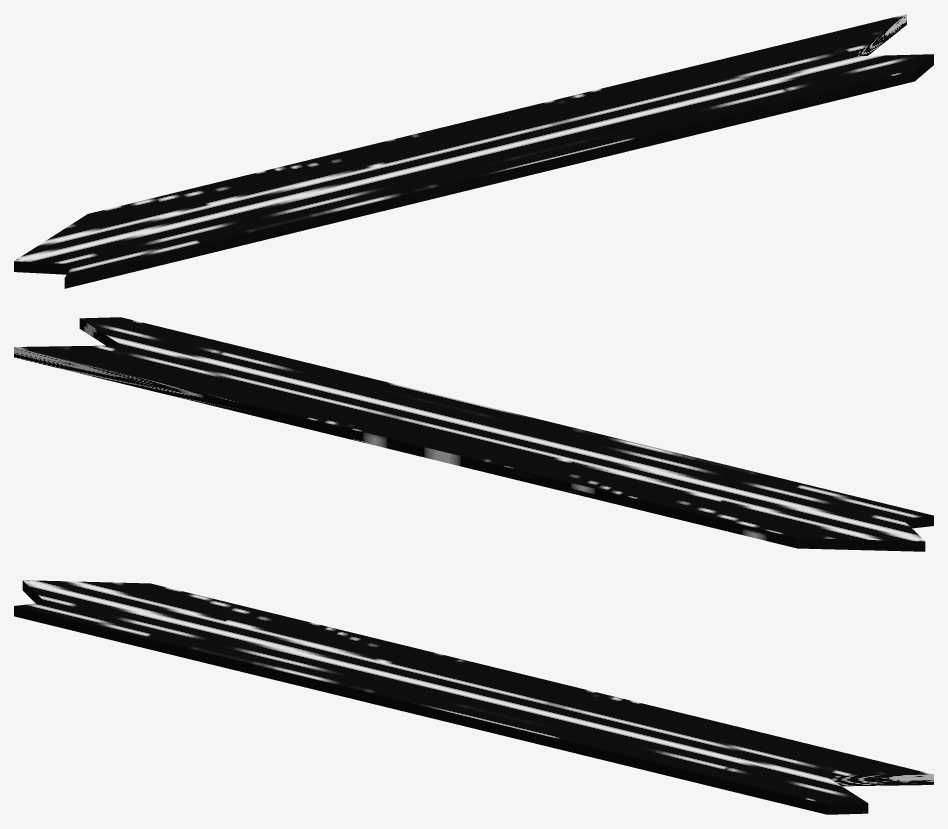
Rendered from Wooden_001.fbx.
3 renders of one model, top to bottom at view 1: azimuth 30°, elevation 25°; view 2: azimuth 150°, elevation 25°; view 3: azimuth 330°, elevation 25°, orthographic. The views are drawn at different scales.
Visible parts, largest first — view 1: Wooden_001; view 2: Wooden_001; view 3: Wooden_001.
Boxes of the visible parts, x1,y1,x2,y2 form: Wooden_001: (14,14,933,288); Wooden_001: (14,317,933,551); Wooden_001: (14,580,933,814).
Bounding box in the file's own units: 89 × 1 × 10.
